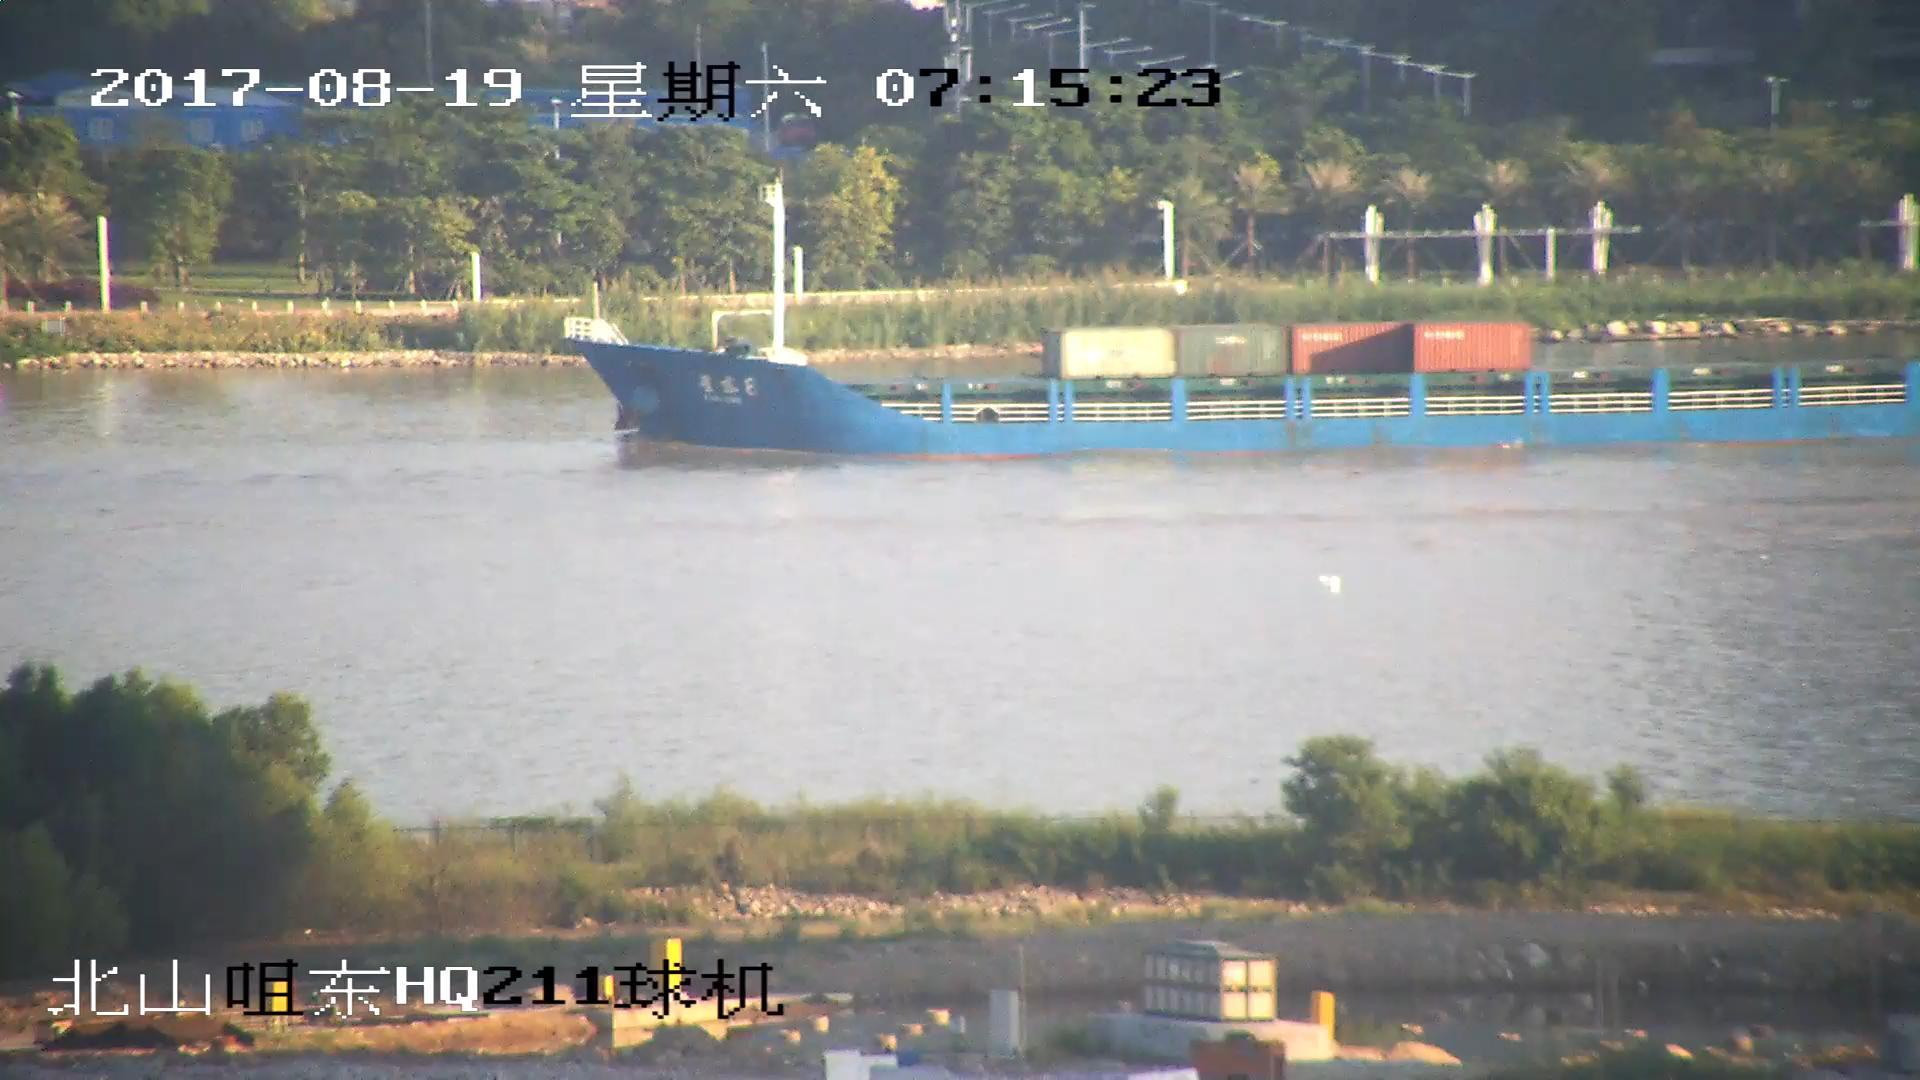Ship: (562, 189, 1920, 460)
